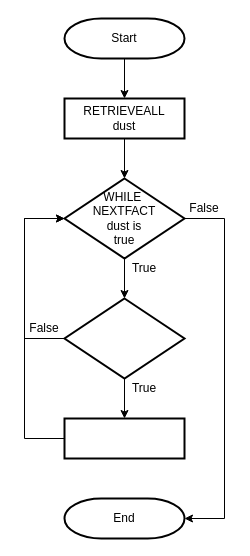
Image size: 250x556. Some labels were removed from this diagram. Here are the shapes that lost their labels. From the top down, the box of each, then its label:
(63, 297, 185, 379): Check if the robot location == dust location
(63, 417, 185, 459): RETRACT dust at the location of the robot
